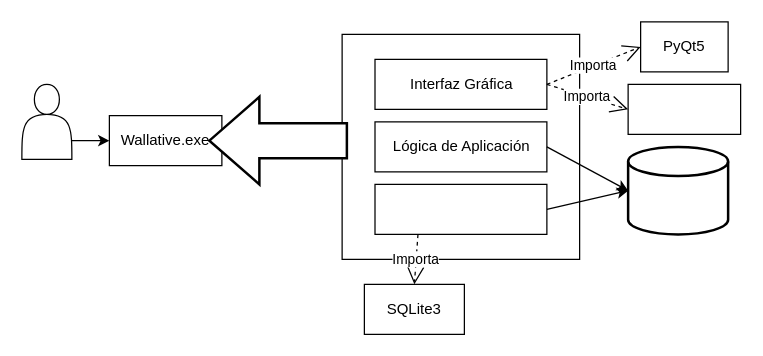
This 763x356 diagram has some shape labels left out. Each missing label, with the box of its shape:
Acceso a Datos: (374, 183, 547, 234)
Base de Datos: (626, 145, 729, 235)
Customtkinter: (627, 83, 741, 134)
